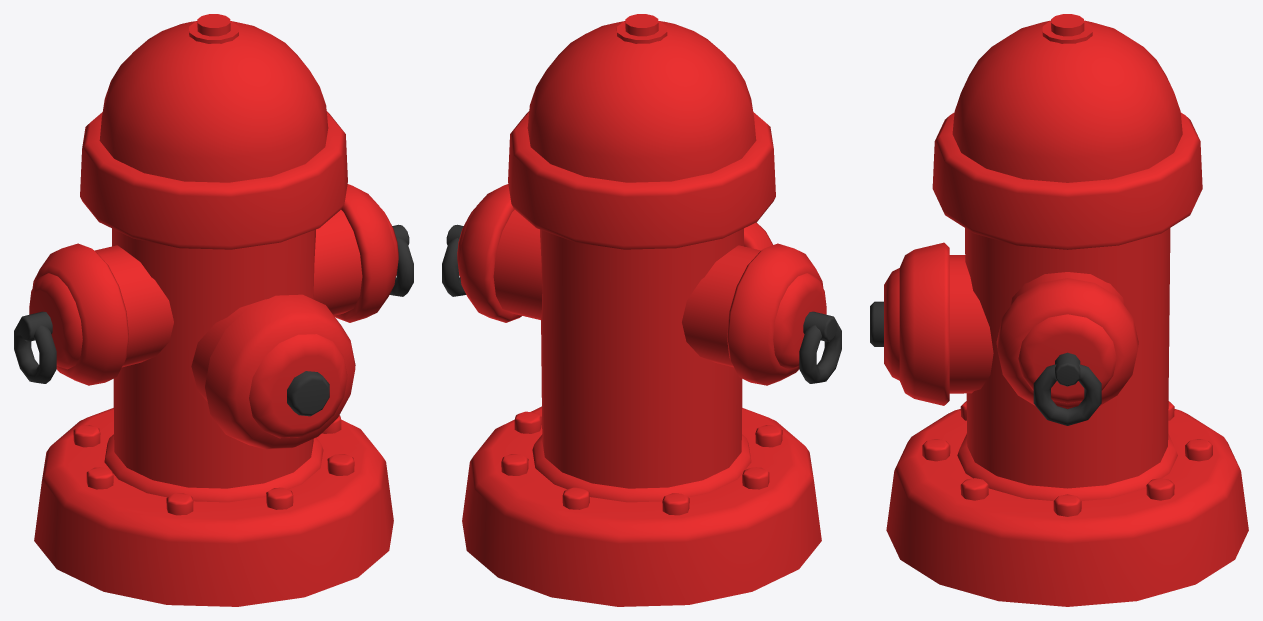
File: fire-hydrant.glb
3 views of the same model, side by side, from view 1: azimuth 30°, elevation 25°; view 2: azimuth 150°, elevation 25°; view 3: azimuth 270°, elevation 25° (orthographic).
Parts seen in each view (by area): view 1: Fire_Hydrant; view 2: Fire_Hydrant; view 3: Fire_Hydrant.
Part boxes in pixels (x1,y1,x2,y2): Fire_Hydrant: (14, 14, 413, 606); Fire_Hydrant: (442, 14, 841, 606); Fire_Hydrant: (870, 14, 1248, 606).
Bounding box in the file's own units: 0.5776 × 0.7397 × 0.4986.
Materials: 1 (1 with a texture image).
